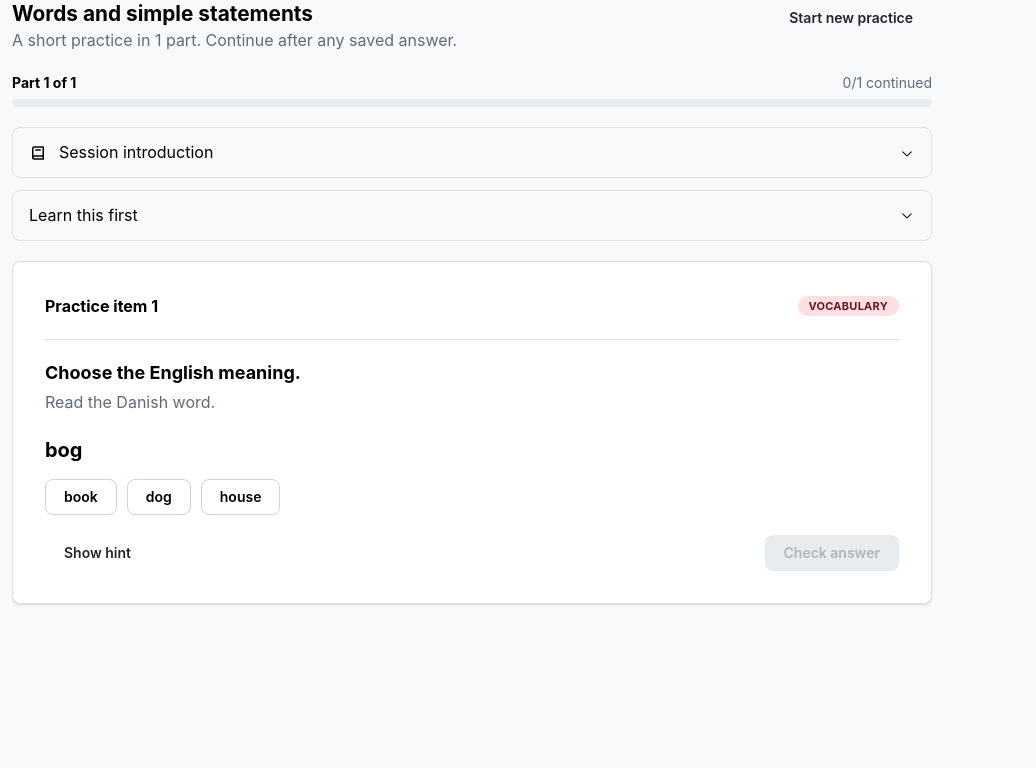
Scenario: ignores a stale Strict Mode recovery after a newer chosen run starts
The width and height of the screenshot is (1036, 768).
Expected: the heading "Words and simple statements" is shown, left=12, top=1, right=313, bottom=26
Click the button "Start new practice" at coordinates (851, 18), box left=770, top=0, right=932, bottom=36
(page scrolled)
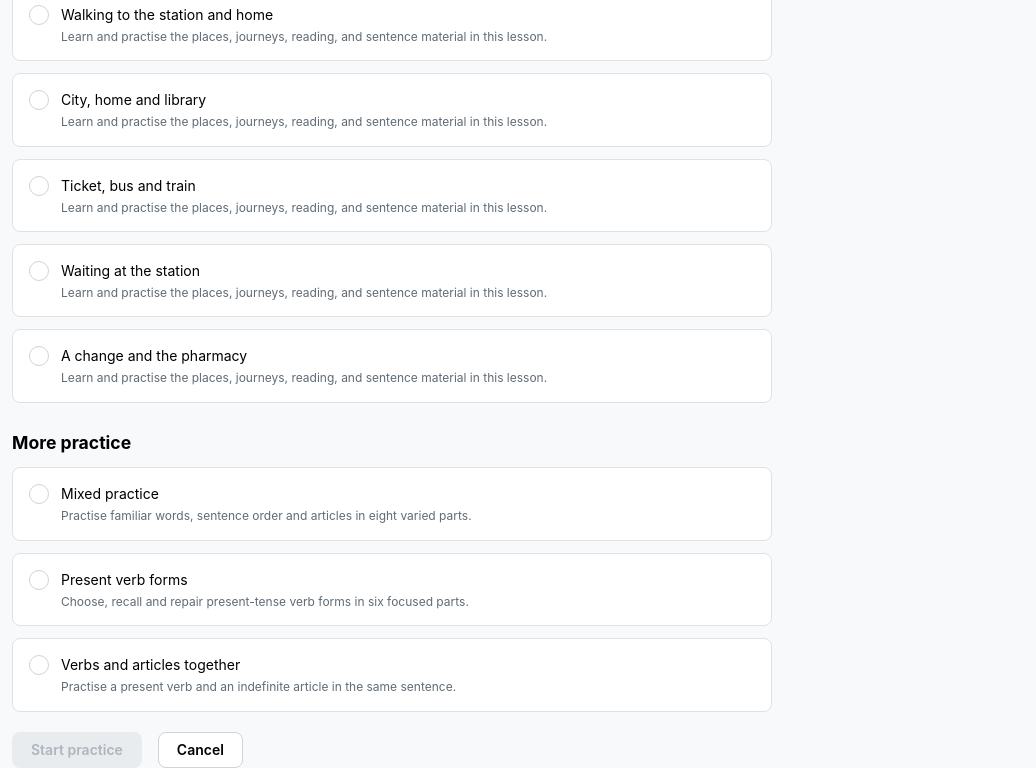
Click the radio button labelled "Present verb forms" at coordinates (39, 580), box left=29, top=570, right=49, bottom=590
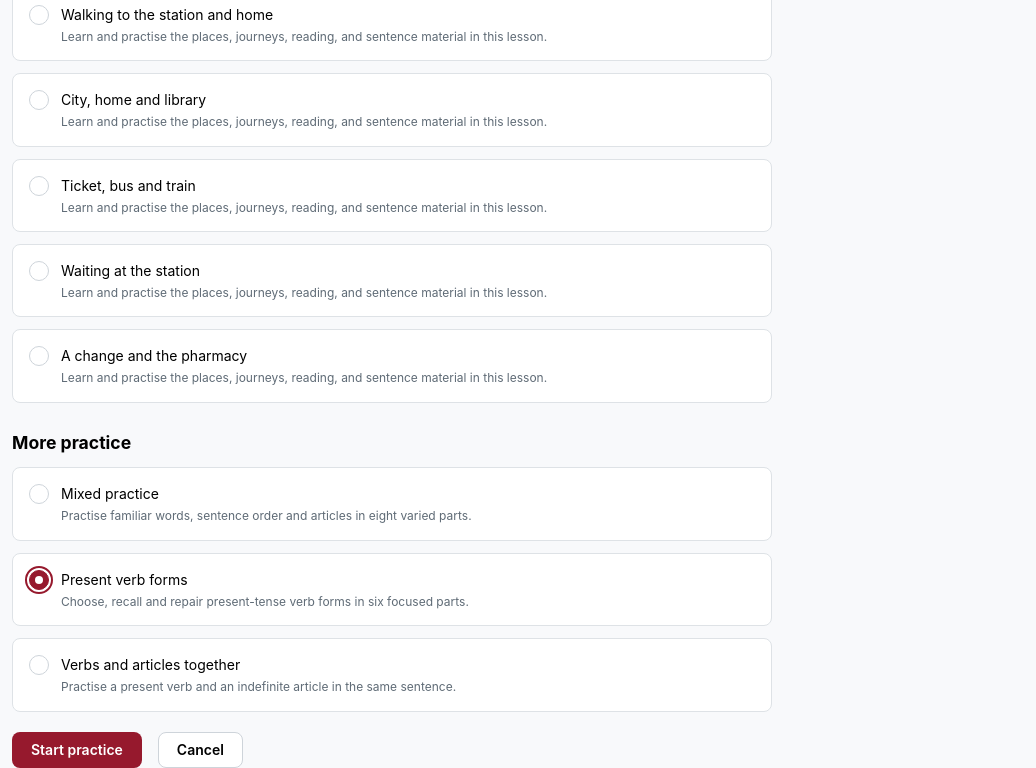
Click the button "Start practice" at coordinates (77, 750), box left=12, top=732, right=142, bottom=767
(page scrolled)
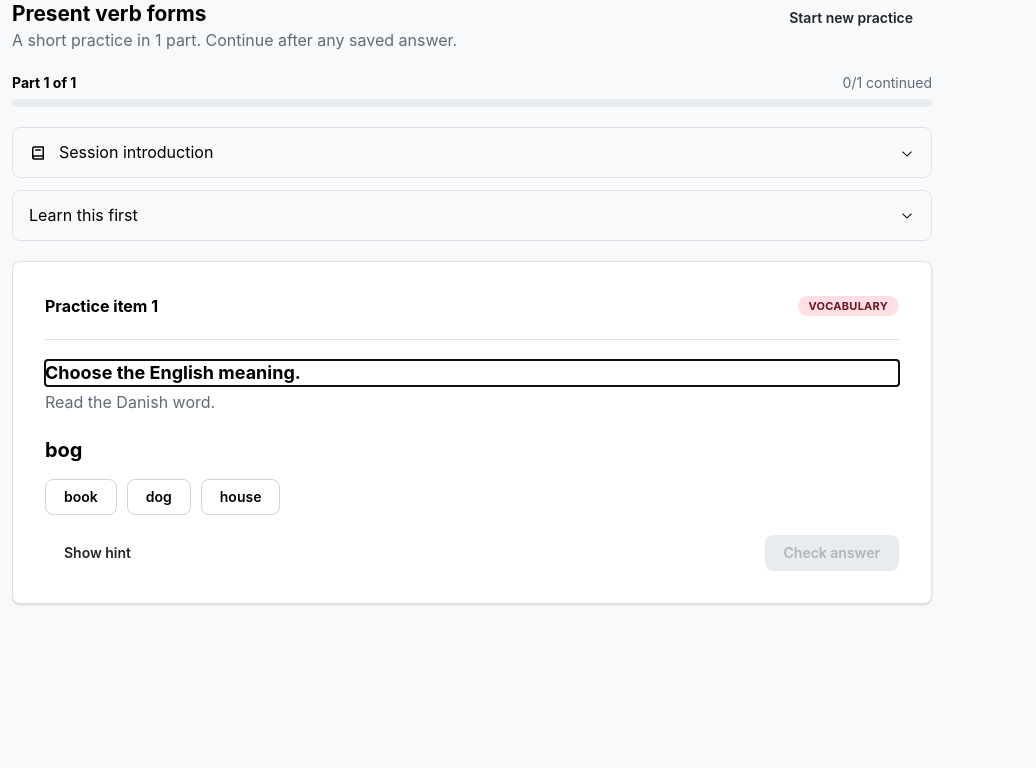
Now the heading "Present verb forms" is shown, box left=12, top=1, right=206, bottom=26
